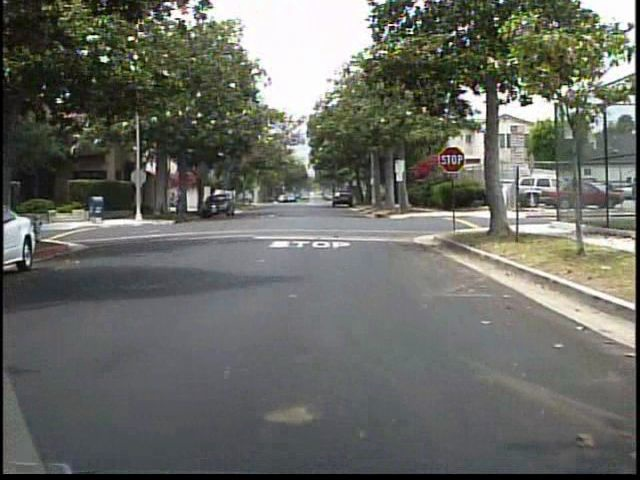person: (169, 179, 192, 226)
